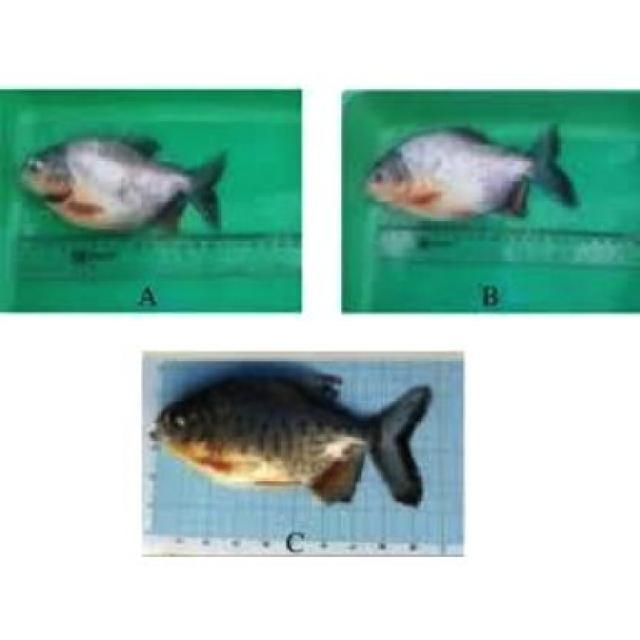ikan-pacu: (154, 370, 428, 492), (16, 134, 224, 234), (360, 124, 566, 224)
